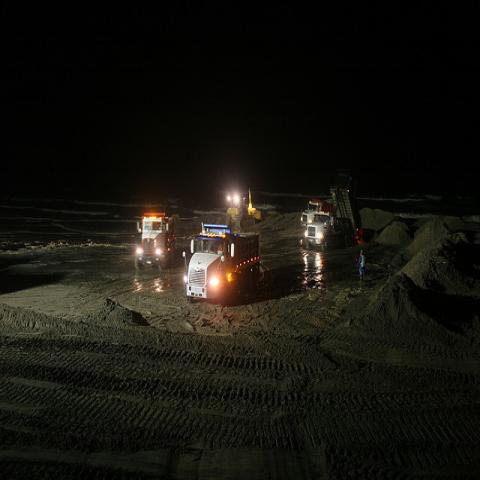truck: (185, 226, 260, 301), (302, 180, 363, 252), (134, 212, 178, 270), (301, 198, 335, 229)
